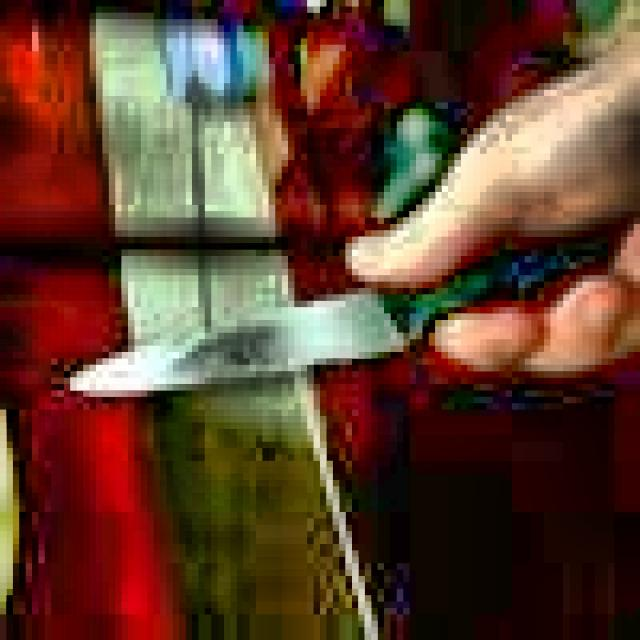knife: (74, 240, 606, 402)
